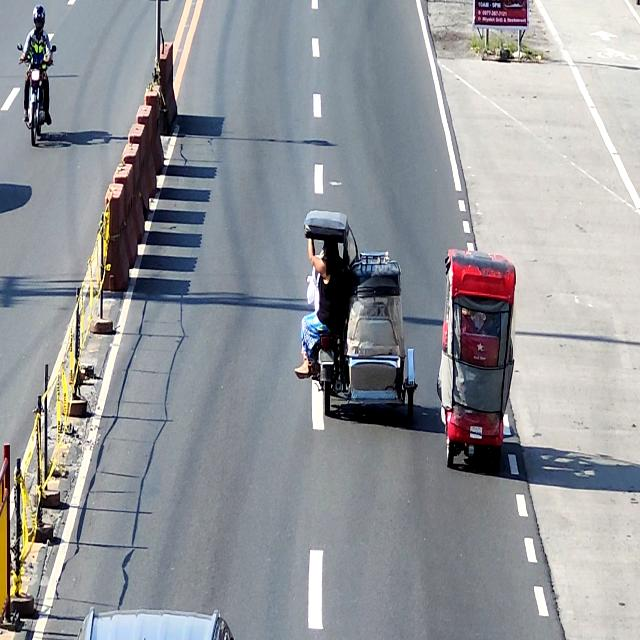E-bike: (434, 252, 516, 470)
License-Plate: (318, 348, 336, 366)
Motorcycle: (17, 42, 57, 143)
Tricycle: (304, 208, 418, 421)
